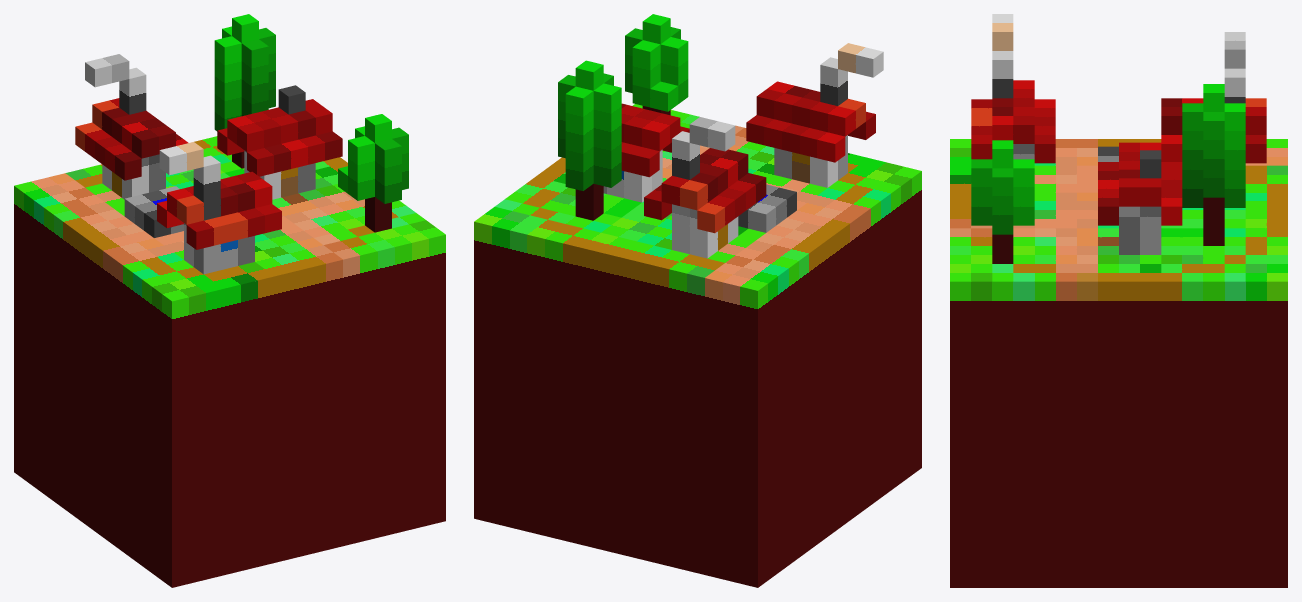
The model's file is village.gltf.
3 renders of one model, left to right at view 1: azimuth 30°, elevation 25°; view 2: azimuth 150°, elevation 25°; view 3: azimuth 270°, elevation 25°, orthographic. The views are drawn at different scales.
Visible parts, largest first — view 1: Content-Mesh; view 2: Content-Mesh; view 3: Content-Mesh.
Boxes of the visible parts, left/top/right/bottom form: Content-Mesh: left=14, top=14, right=445, bottom=587; Content-Mesh: left=474, top=14, right=921, bottom=587; Content-Mesh: left=950, top=14, right=1287, bottom=587.
Bounding box in the file's own units: 16 × 24 × 16.
Materials: 1 (1 with a texture image).
